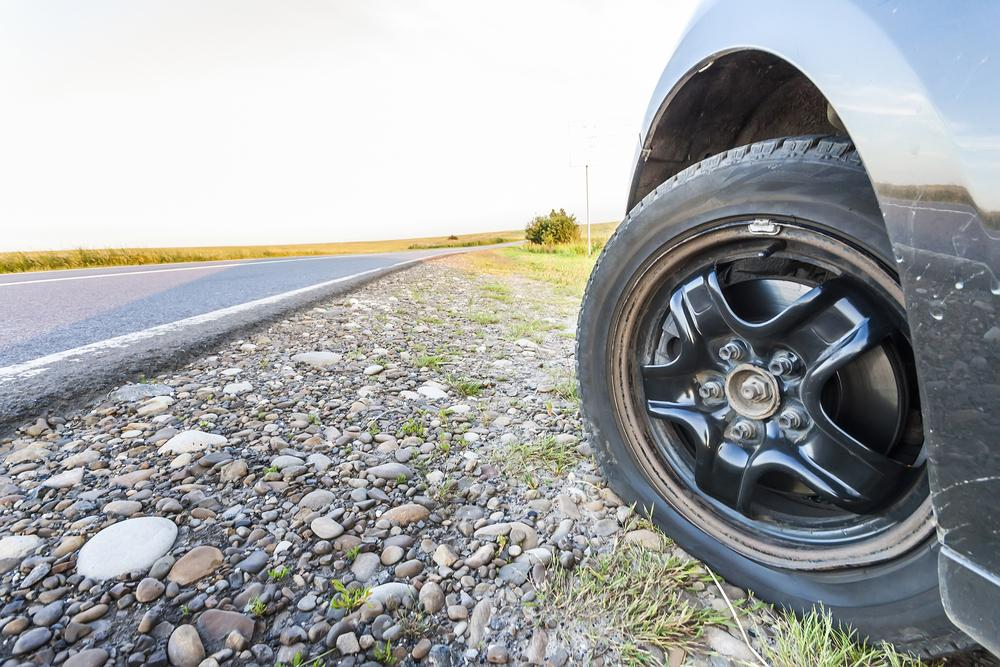tire flat: (576, 133, 978, 664)
